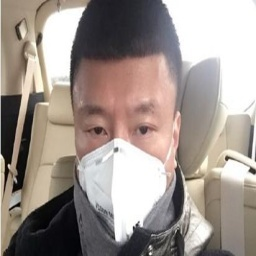correctlyWear: (70, 82, 181, 243)
